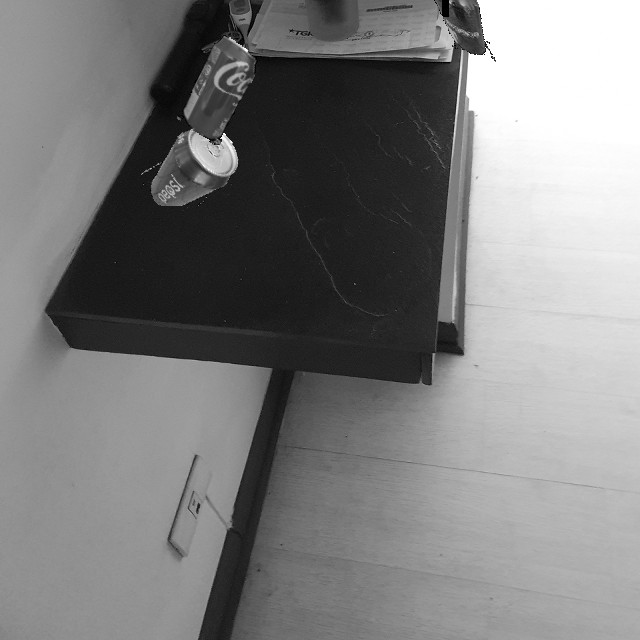coca cola: (174, 33, 262, 145)
pepsi: (141, 114, 249, 206)
schweppes: (422, 0, 498, 62)
